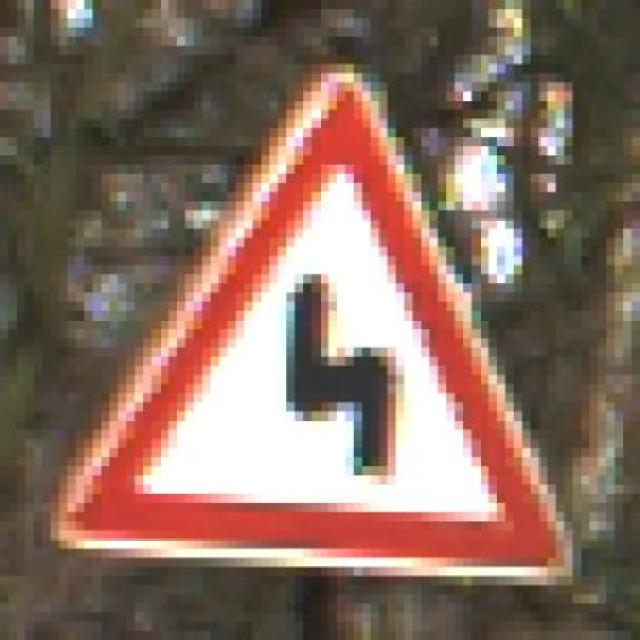Left Zig Zag Traffic: (58, 36, 590, 595)
